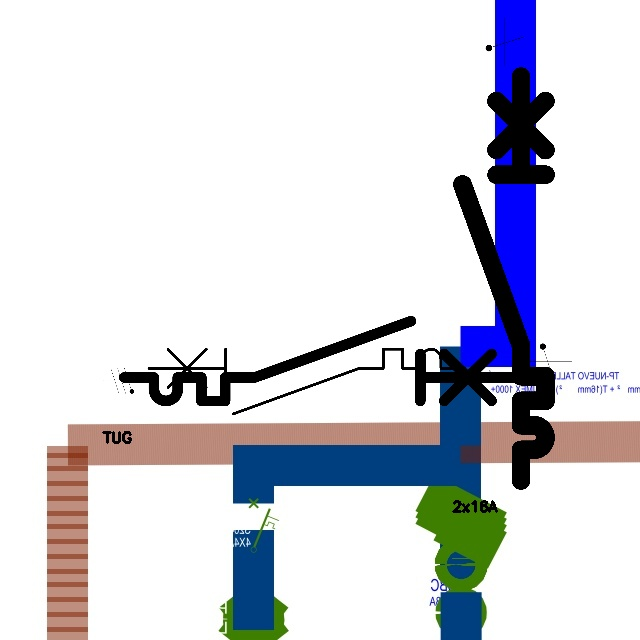interruptor_termomagnetico: (452, 66, 556, 491), (114, 311, 525, 411), (140, 341, 473, 422)
